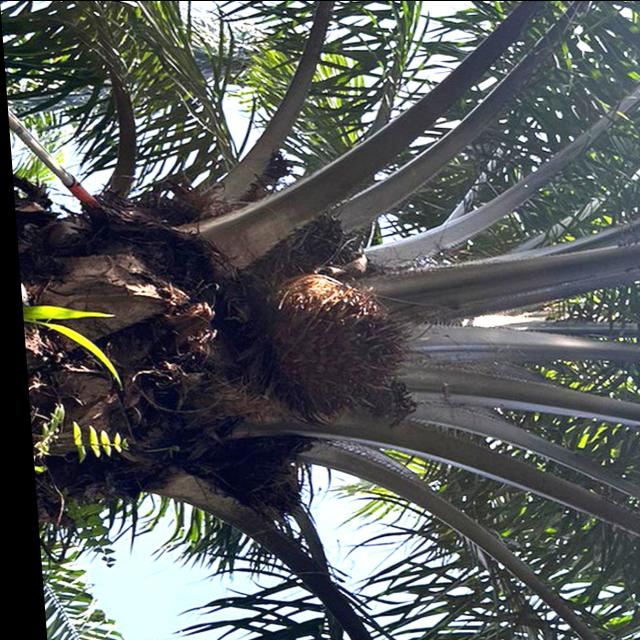ripe: (248, 258, 428, 432)
